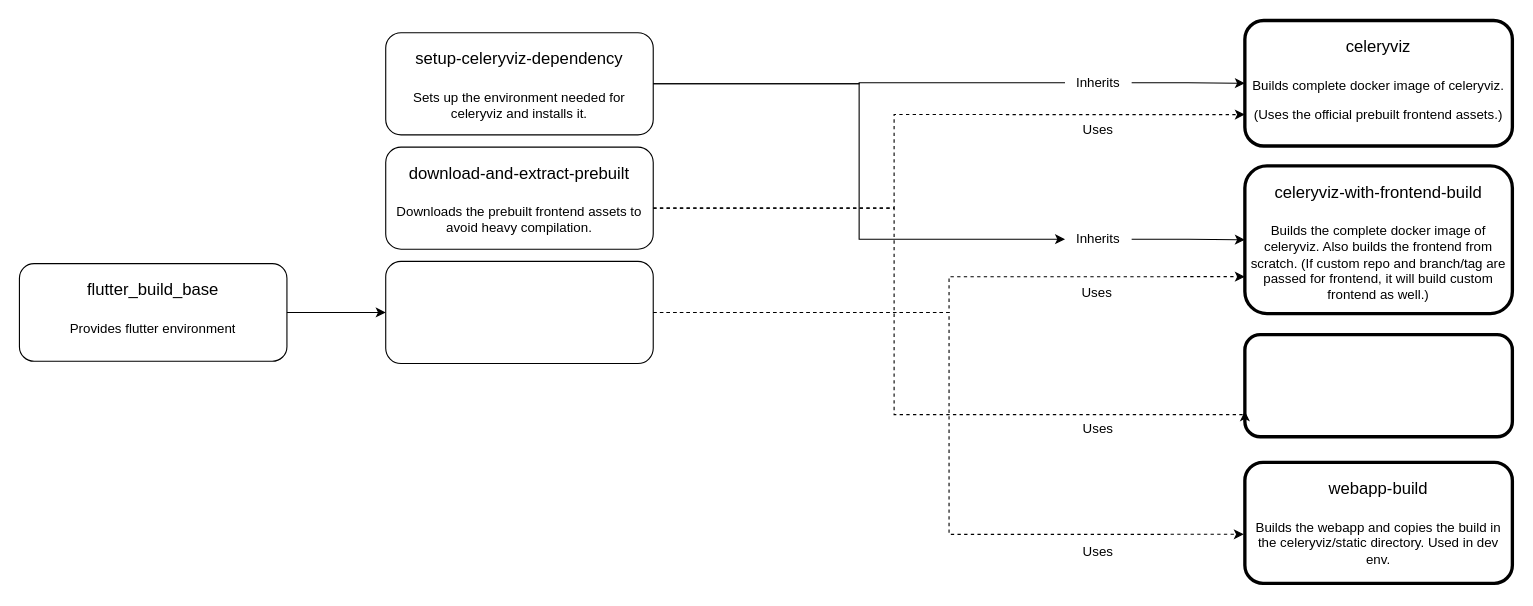
Some shapes in this 1533 by 606 pixel diagram are drawn without their labels. The shapes that lost their labels are listed below. From the top down, each one's box as (x1, y1, x2, y2) in pixels, then its label:
(385, 260, 653, 364): webapp-compile Compiles the webapp for the given repo and branch/tag
(1243, 332, 1513, 438): webapp-prebuilt Copies the downloaded assets into celeryviz/static directory.
